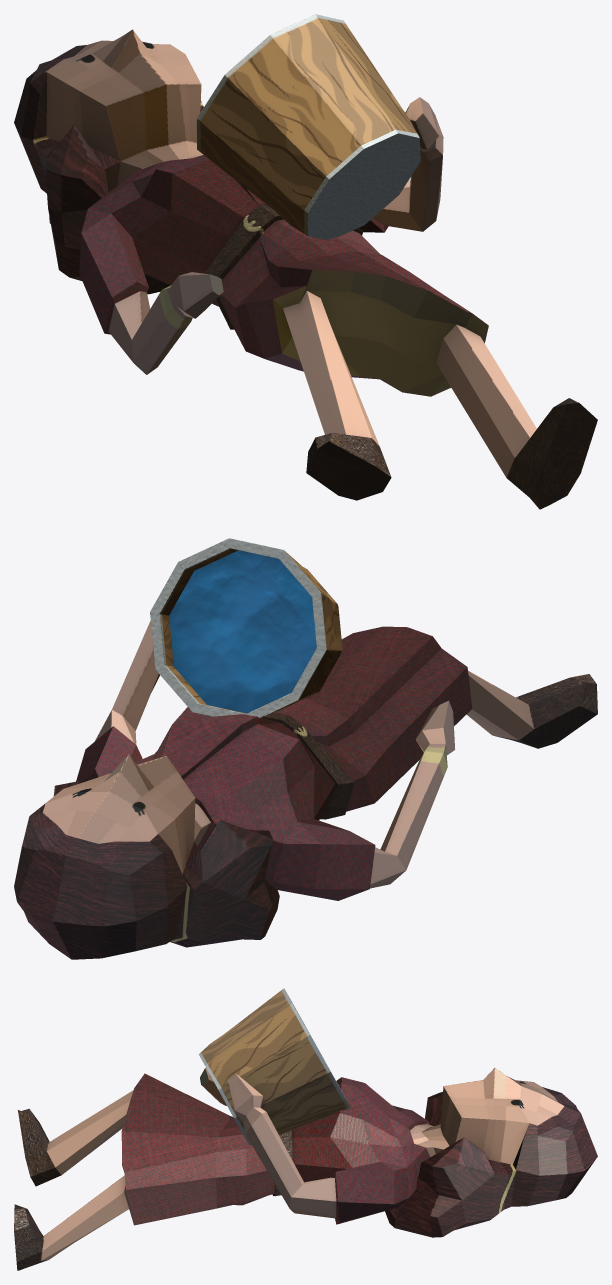
Rendered from Walk_Aldeana_2.obj.
3 views of the same model, one above another, from view 1: azimuth 30°, elevation 25°; view 2: azimuth 150°, elevation 25°; view 3: azimuth 270°, elevation 25° (orthographic). The views are drawn at different scales.
Parts seen in each view (by area): view 1: Aldeana.001; view 2: Aldeana.001; view 3: Aldeana.001.
Part boxes in pixels (left/top/right/bottom): Aldeana.001: left=14, top=14, right=597, bottom=509; Aldeana.001: left=14, top=538, right=597, bottom=959; Aldeana.001: left=14, top=988, right=597, bottom=1270.
Size of the model in its own units: 1.05 by 1.13 by 2.35.
